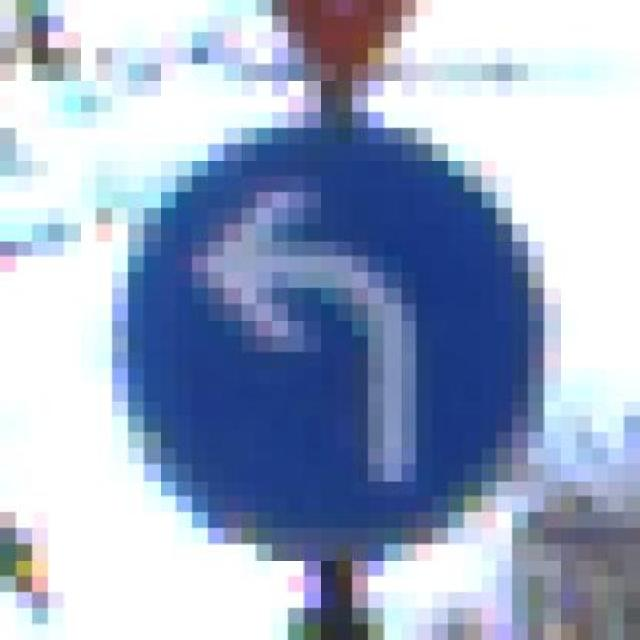Turn left ahead: (79, 95, 576, 560)
